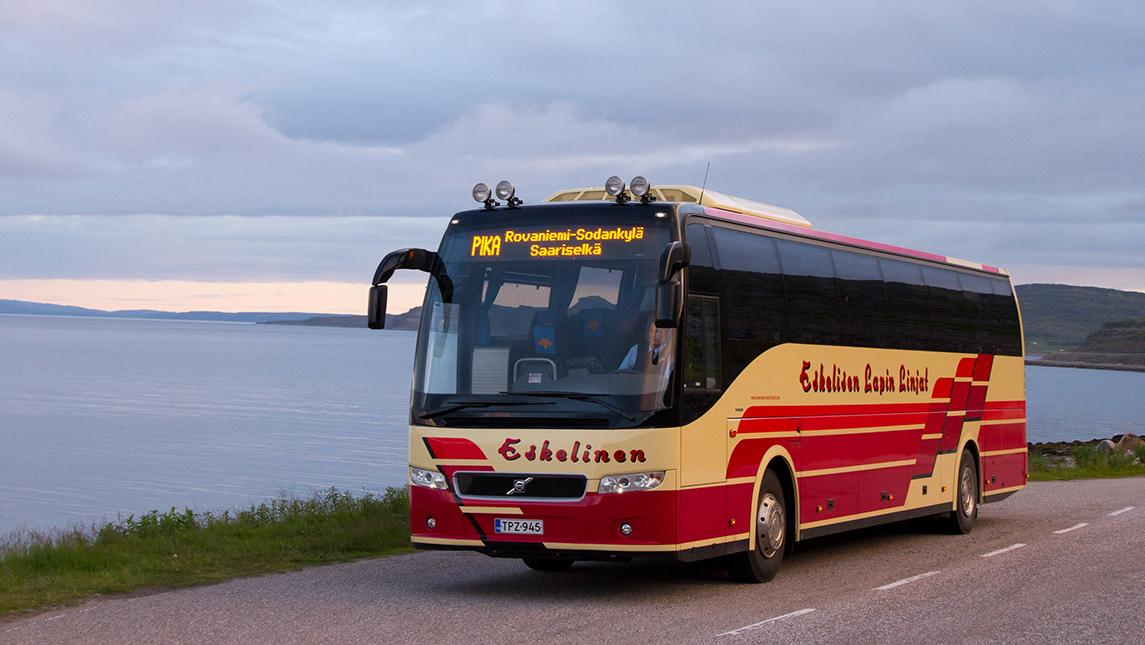bus: (367, 159, 1056, 589)
